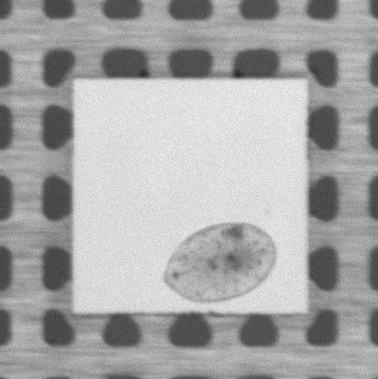DIE_INK: (155, 217, 284, 311)
